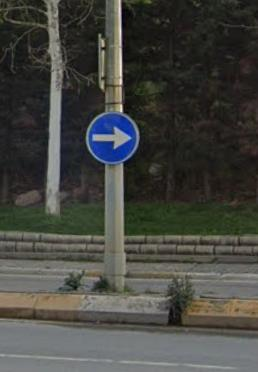turnright: (88, 112, 140, 167)
